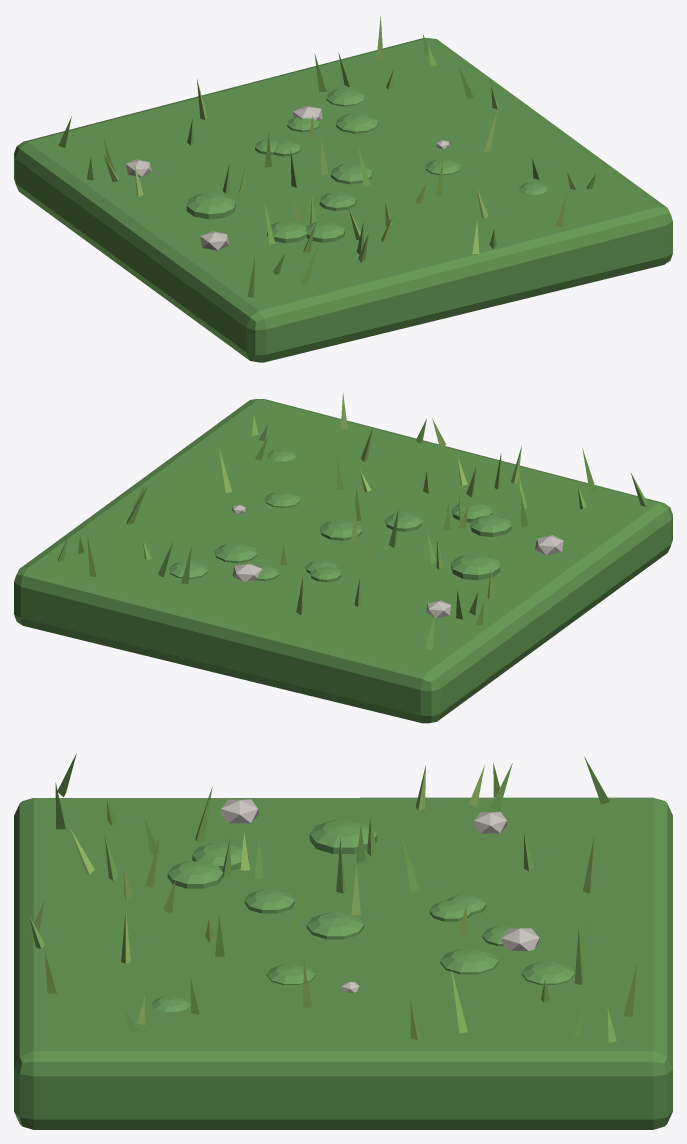
File: grass_3.glb
3 renders of one model, top to bottom at view 1: azimuth 30°, elevation 25°; view 2: azimuth 150°, elevation 25°; view 3: azimuth 270°, elevation 25°, orthographic. The views are drawn at different scales.
Parts seen in each view (by area): view 1: Cube; view 2: Cube; view 3: Cube.
Boxes of the visible parts, x1,y1,x2,y2 form: Cube: (14,16,672,362); Cube: (14,392,672,723); Cube: (14,753,672,1129).
Size of the model in its own units: 4.02 by 0.8947 by 4.02.
